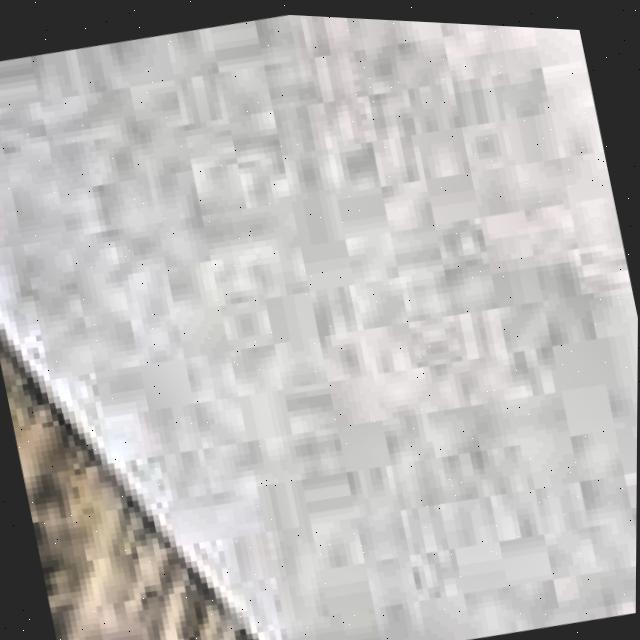paper: (0, 12, 638, 640)
